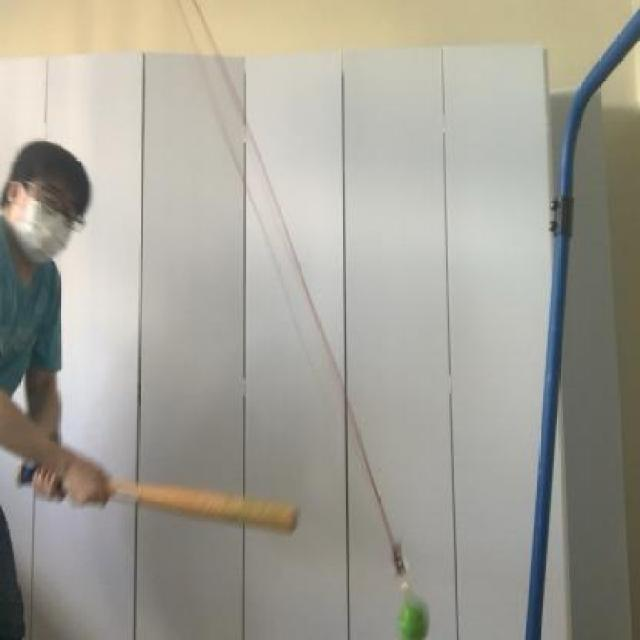baseball: (387, 591, 436, 640)
